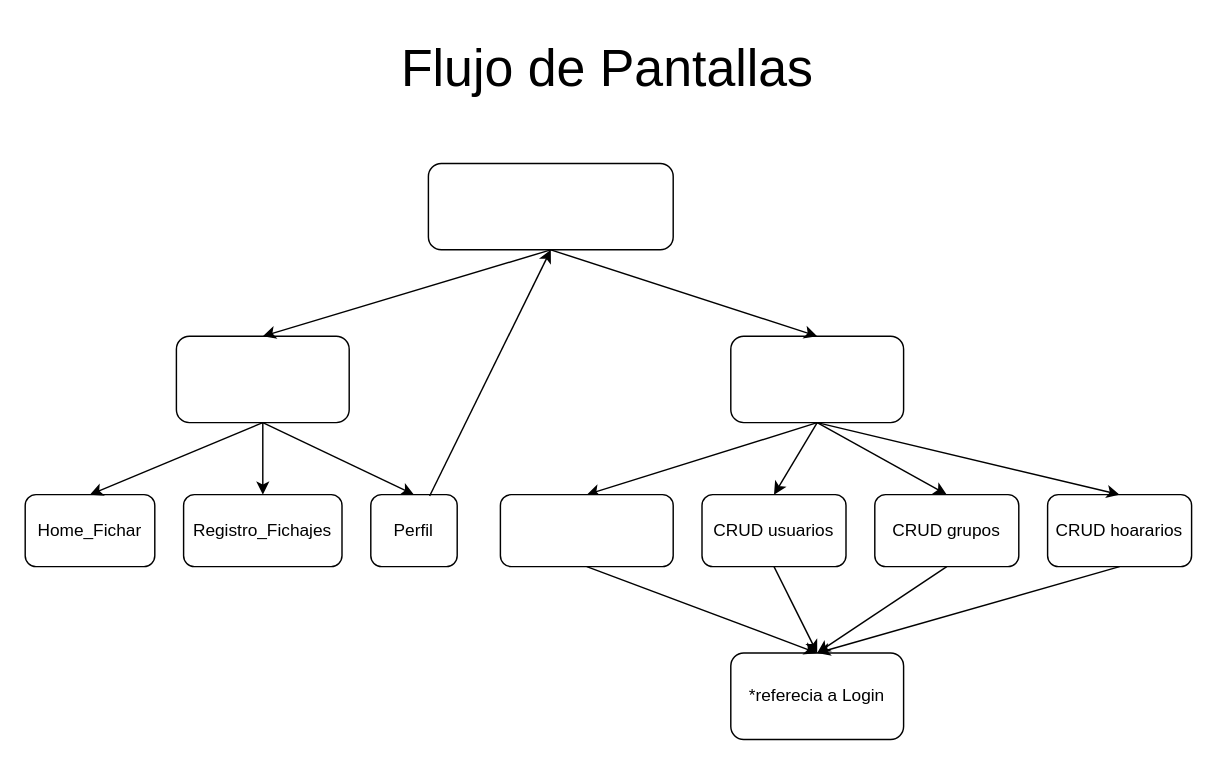
Some shapes in this 1217 by 765 pixel diagram are drawn without their labels. Here are the shapes that lost their labels. From the top down, the centre of each, then its label:
At point 550,206: "Login".
At point 262,379: "Empleado".
At point 816,379: "Jefe".
At point 586,530: "Registro_ausencias".
